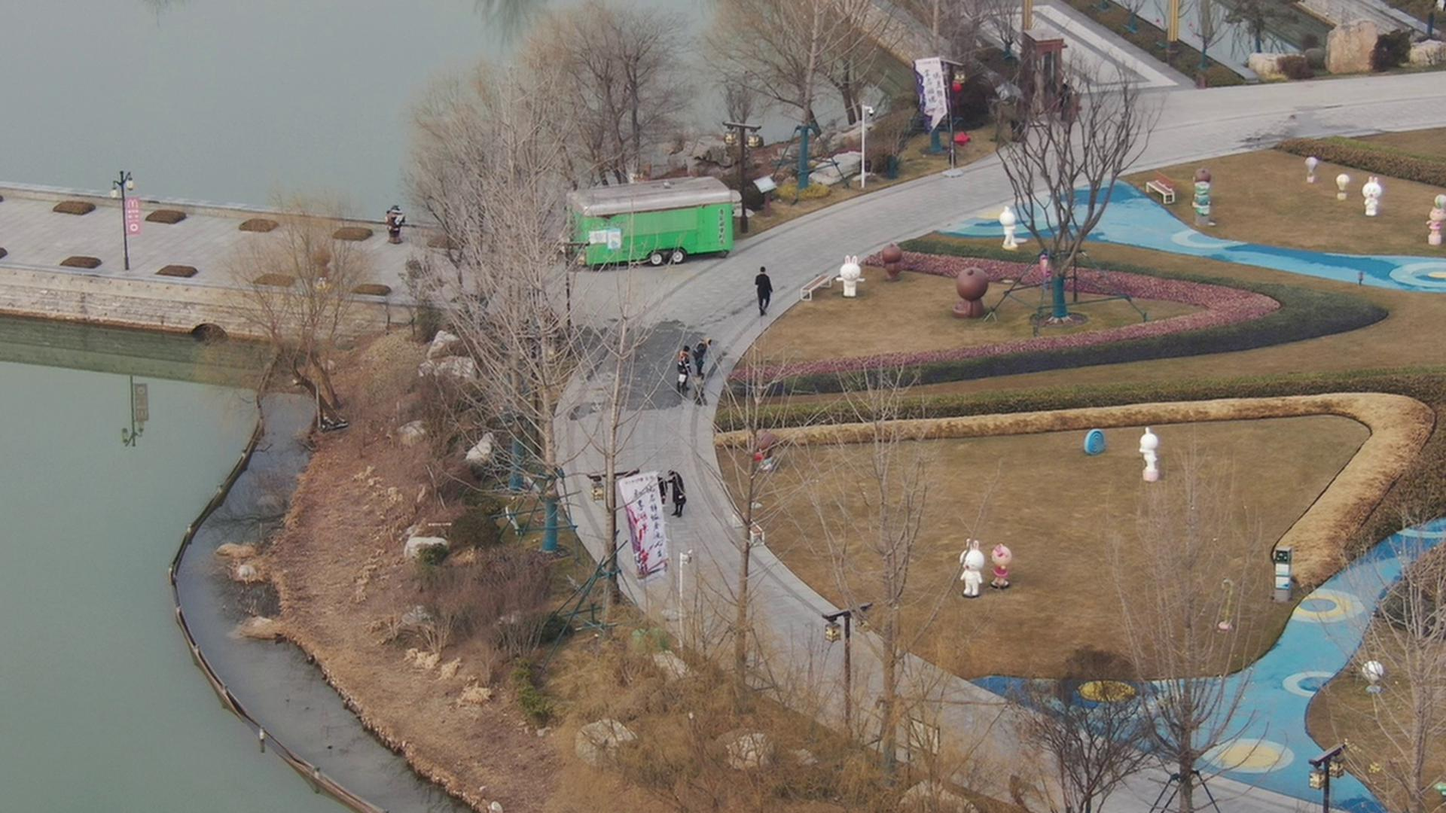class_2: (655, 470, 685, 532)
human: (744, 265, 773, 324), (691, 334, 716, 386), (673, 343, 694, 403)
